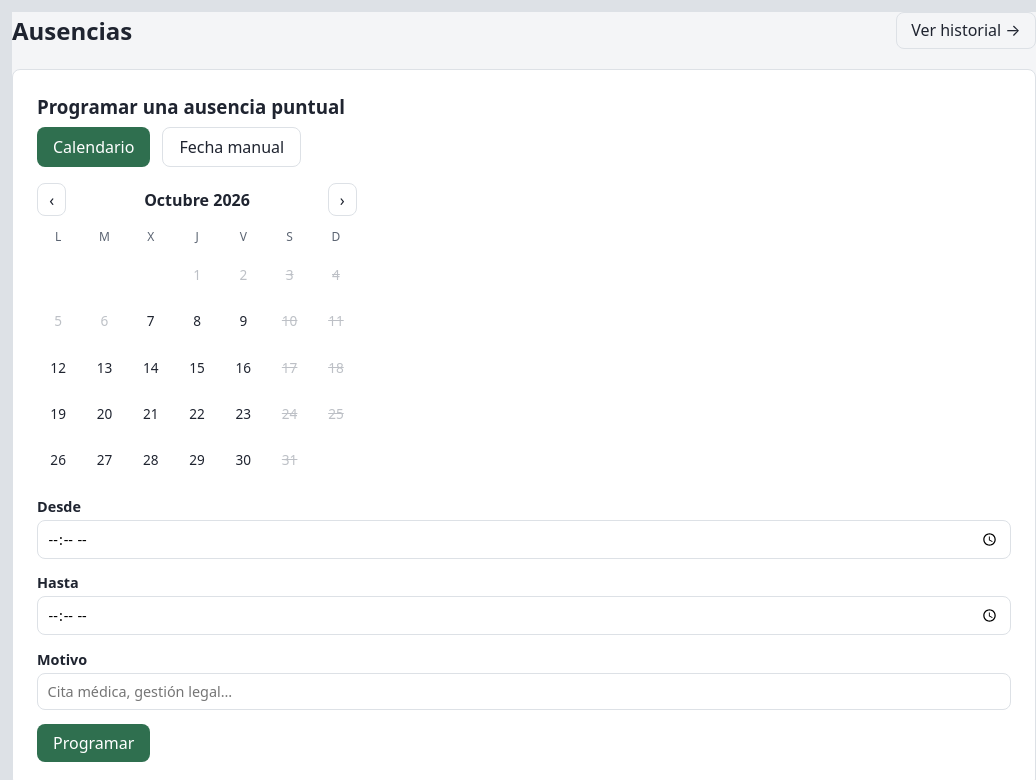
Test case: WorkerAbsences › muestra el mensaje de un ApiError si falla programar una ausencia
The width and height of the screenshot is (1036, 780).
Click the button "7": (151, 321) top-left (130, 300), bottom-right (172, 342)
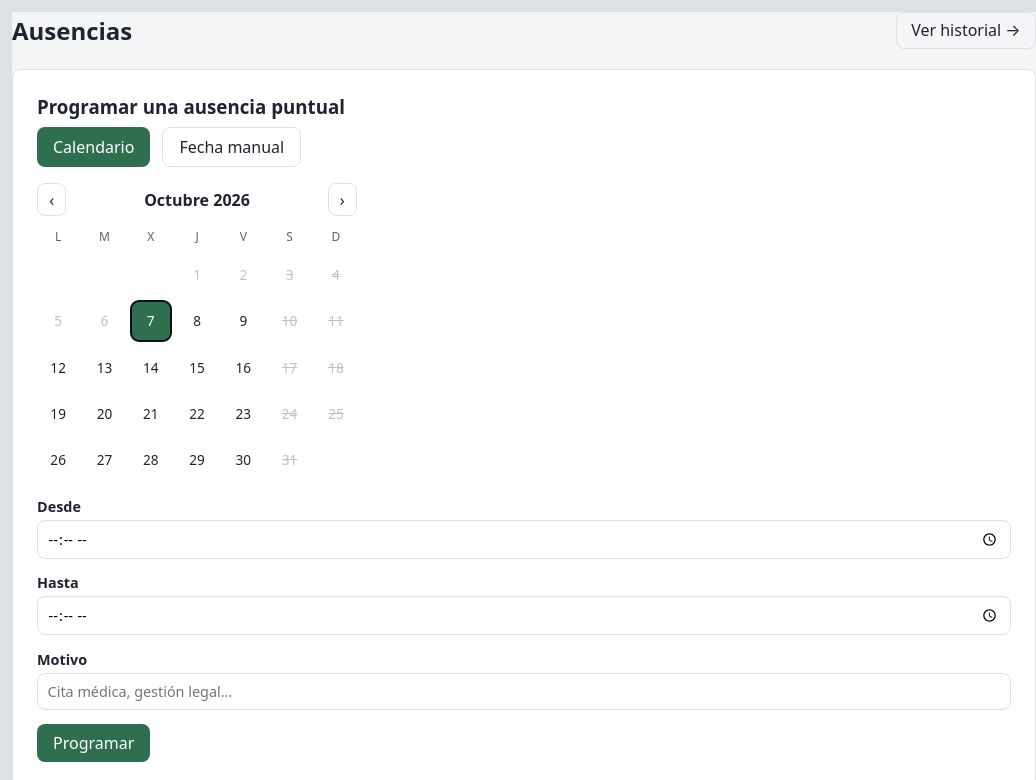
In the time field labelled "Desde": (524, 539) top-left (37, 520), bottom-right (1011, 559), type "09:00"
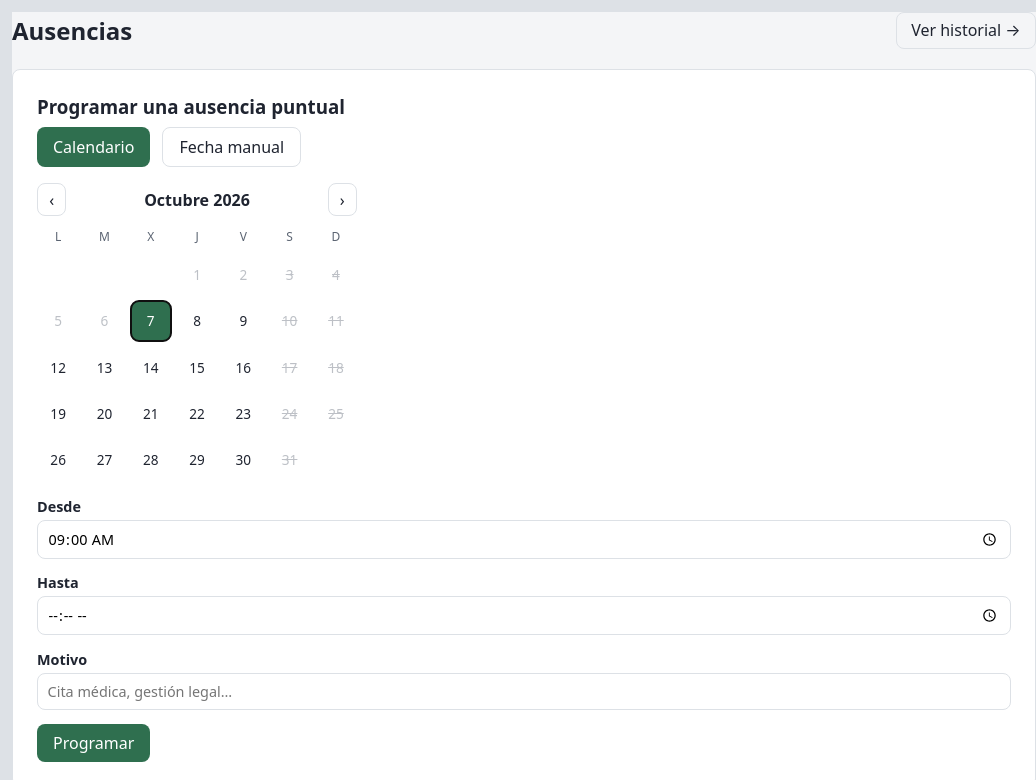
In the time field labelled "Hasta": (524, 616) top-left (37, 596), bottom-right (1011, 636), type "09:30"
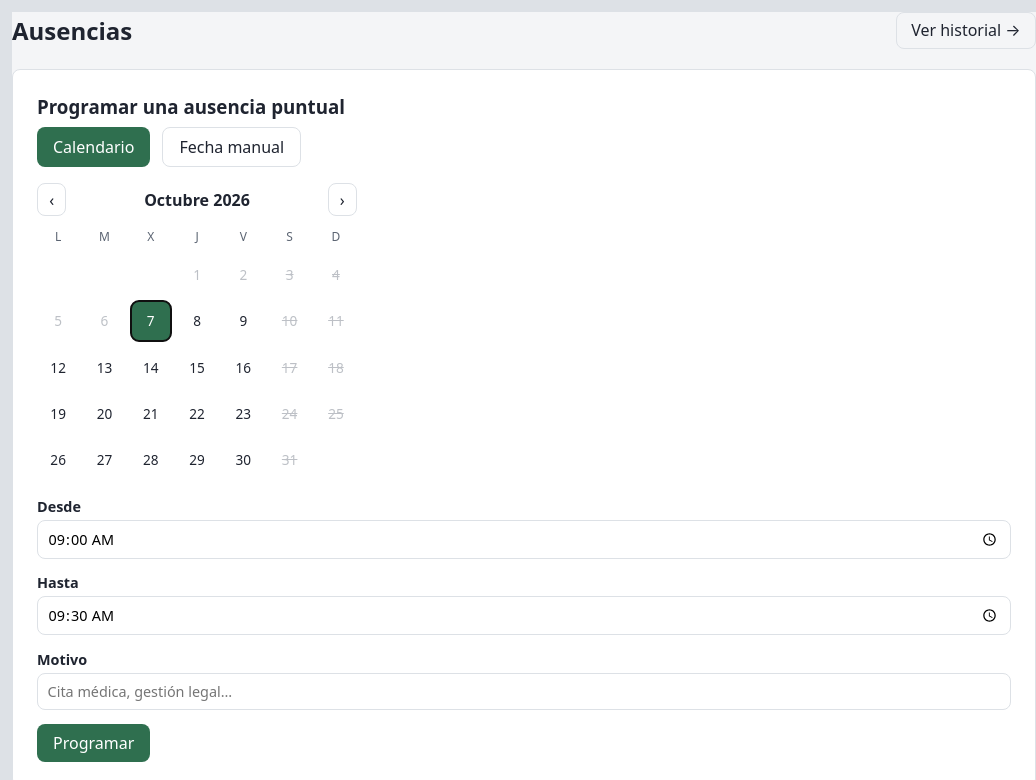
In the field labelled "Motivo": (524, 691) top-left (37, 673), bottom-right (1011, 710), type "Gestión legal"
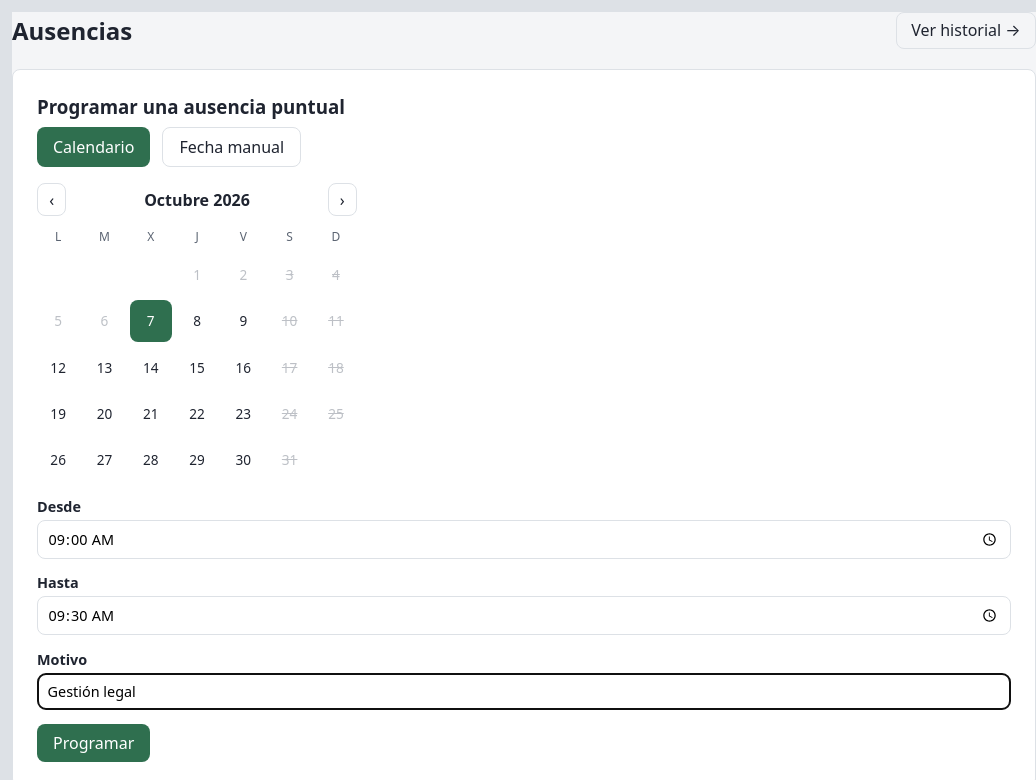
Click the button "Programar": (94, 743) top-left (37, 724), bottom-right (150, 762)
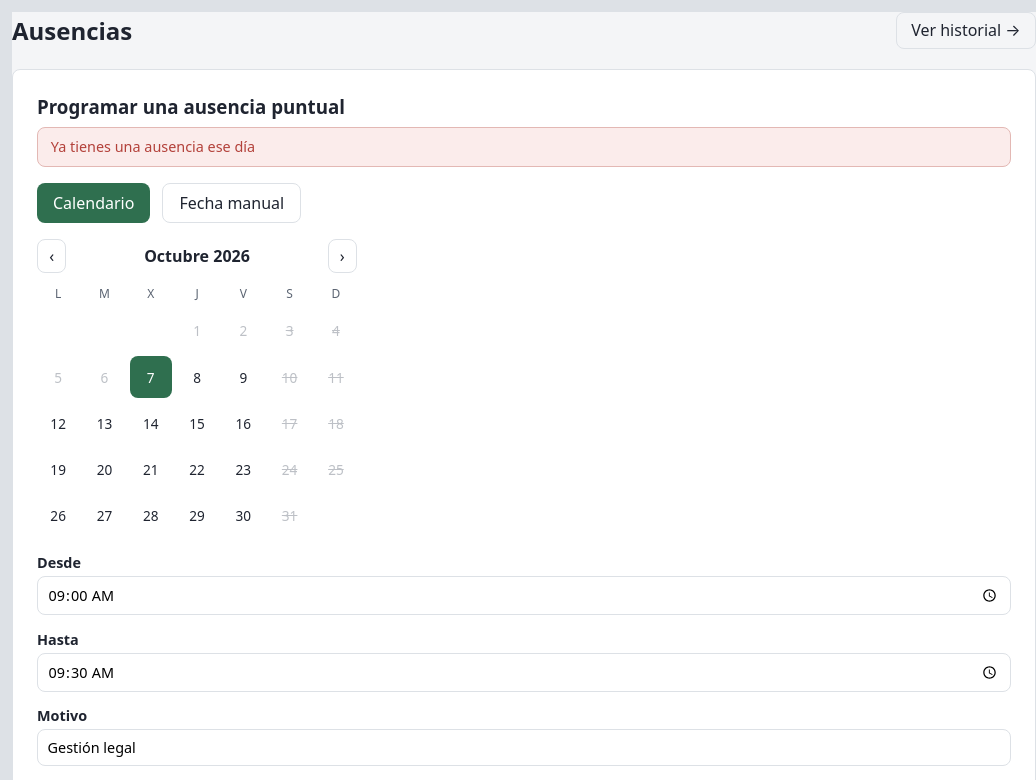
expect the text "Ya tienes una ausencia ese día" is shown: met, box top-left (37, 127), bottom-right (1011, 167)
